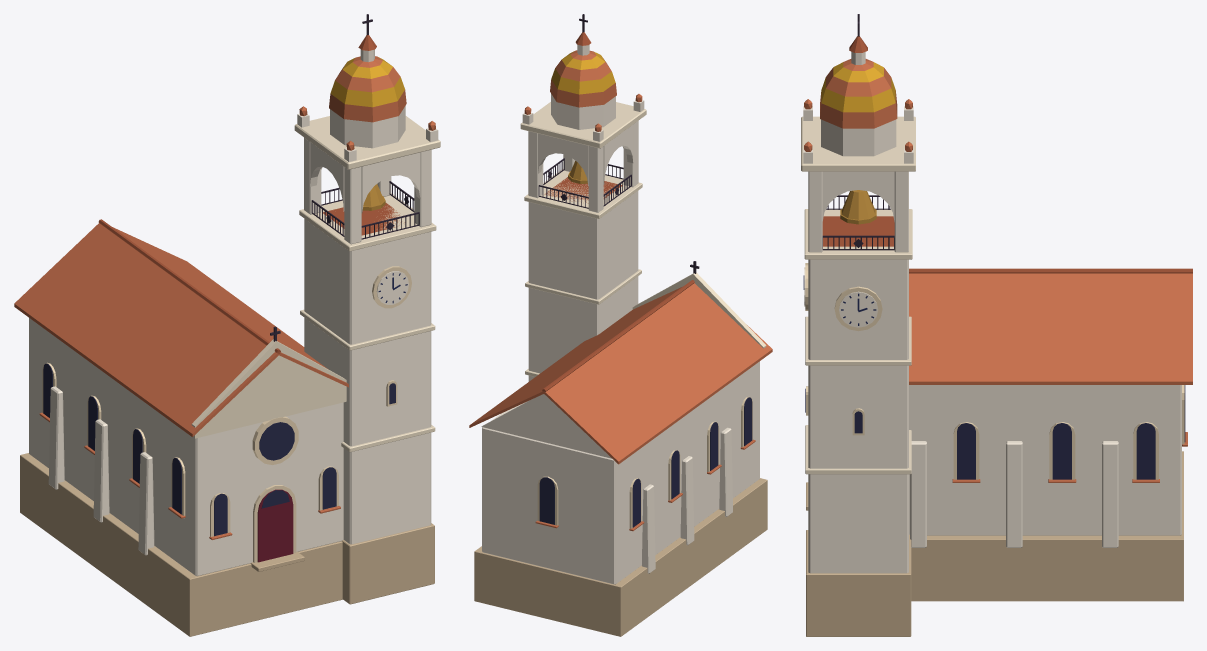
Rendered from church.glb.
3 views of the same model, side by side, from view 1: azimuth 30°, elevation 25°; view 2: azimuth 150°, elevation 25°; view 3: azimuth 270°, elevation 25° (orthographic). The views are drawn at different scales.
Parts seen in each view (by area): view 1: church; view 2: church; view 3: church.
Boxes of the visible parts, x1,y1,x2,y2 form: church: (14,14,440,636); church: (469,14,772,636); church: (801,14,1192,636).
Bounding box in the file's own units: 12.6 × 27.65 × 16.35.
